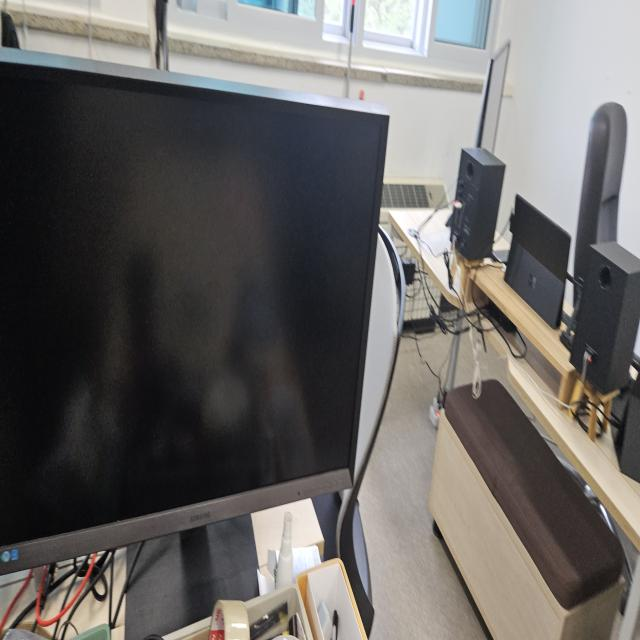Monitor: (1, 45, 391, 578)
